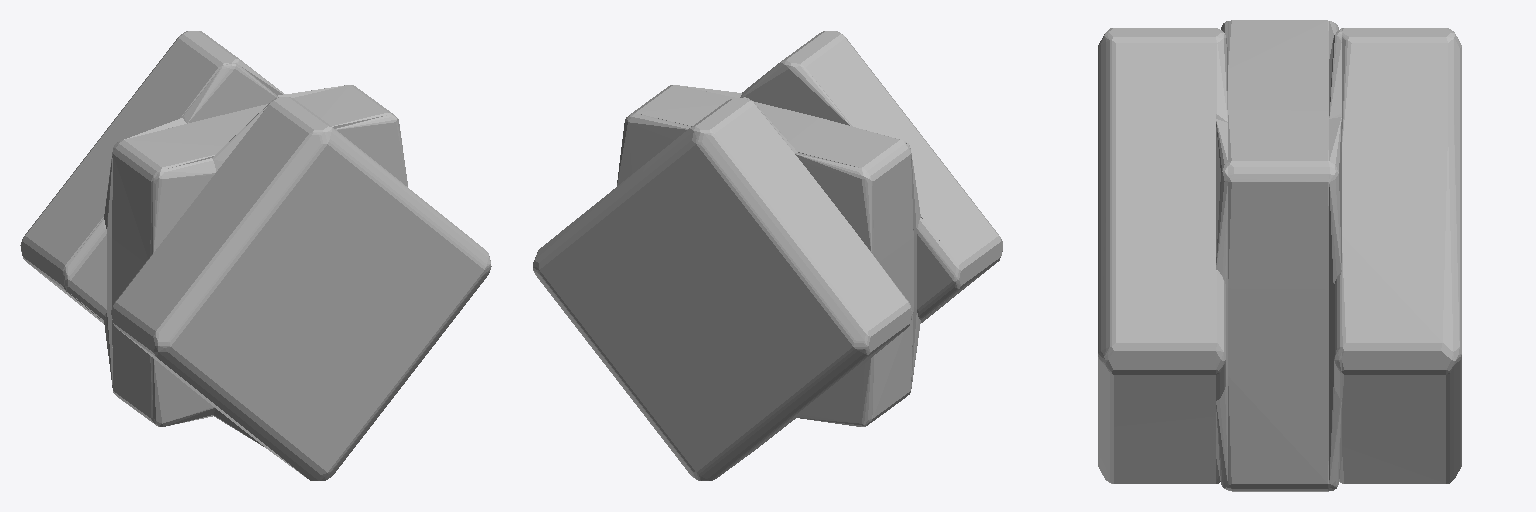
The robot description file, URDF, robot "root":
<robot name="root">
  <link name="link_coacd_convex_piece_0">
    <inertial>
      <origin xyz="0 0 0" rpy="0 0 0"/>
      <mass value="5.03E-01"/>
      <inertia ixx="1.44E-01" ixy="-7.48E-06" ixz="-5.72E-05" iyy="1.18E-01" iyz="-3.11E-05" izz="1.44E-01"/>
    </inertial>
    <visual>
      <origin xyz="0 0 0" rpy="0 0 0"/>
      <geometry>
        <mesh filename="coacd_convex_piece_0.obj" scale="1.0000E+00 1.0000E+00 1.0000E+00"/>
      </geometry>
      <material name="">
        <color rgba="7.50E-01 7.50E-01 7.50E-01 1"/>
      </material>
    </visual>
    <collision>
      <origin xyz="0 0 0" rpy="0 0 0"/>
      <geometry>
        <mesh filename="coacd_convex_piece_0.obj" scale="1.0000E+00 1.0000E+00 1.0000E+00"/>
      </geometry>
    </collision>
  </link>
  <link name="link_coacd_convex_piece_1">
    <inertial>
      <origin xyz="0 0 0" rpy="0 0 0"/>
      <mass value="4.92E-01"/>
      <inertia ixx="1.42E-01" ixy="-5.85E-05" ixz="-3.35E-05" iyy="1.15E-01" iyz="-5.85E-05" izz="1.42E-01"/>
    </inertial>
    <visual>
      <origin xyz="0 0 0" rpy="0 0 0"/>
      <geometry>
        <mesh filename="coacd_convex_piece_1.obj" scale="1.0000E+00 1.0000E+00 1.0000E+00"/>
      </geometry>
      <material name="">
        <color rgba="7.50E-01 7.50E-01 7.50E-01 1"/>
      </material>
    </visual>
    <collision>
      <origin xyz="0 0 0" rpy="0 0 0"/>
      <geometry>
        <mesh filename="coacd_convex_piece_1.obj" scale="1.0000E+00 1.0000E+00 1.0000E+00"/>
      </geometry>
    </collision>
  </link>
  <joint name="link_coacd_convex_piece_1_joint" type="fixed">
    <origin xyz="0 0 0" rpy="0 0 0"/>
    <parent link="link_coacd_convex_piece_0"/>
    <child link="link_coacd_convex_piece_1"/>
  </joint>
  <link name="link_coacd_convex_piece_2">
    <inertial>
      <origin xyz="0 0 0" rpy="0 0 0"/>
      <mass value="4.20E-01"/>
      <inertia ixx="5.30E-02" ixy="2.22E-08" ixz="-1.52E-06" iyy="9.84E-02" iyz="2.83E-08" izz="5.30E-02"/>
    </inertial>
    <visual>
      <origin xyz="0 0 0" rpy="0 0 0"/>
      <geometry>
        <mesh filename="coacd_convex_piece_2.obj" scale="1.0000E+00 1.0000E+00 1.0000E+00"/>
      </geometry>
      <material name="">
        <color rgba="7.50E-01 7.50E-01 7.50E-01 1"/>
      </material>
    </visual>
    <collision>
      <origin xyz="0 0 0" rpy="0 0 0"/>
      <geometry>
        <mesh filename="coacd_convex_piece_2.obj" scale="1.0000E+00 1.0000E+00 1.0000E+00"/>
      </geometry>
    </collision>
  </link>
  <joint name="link_coacd_convex_piece_2_joint" type="fixed">
    <origin xyz="0 0 0" rpy="0 0 0"/>
    <parent link="link_coacd_convex_piece_1"/>
    <child link="link_coacd_convex_piece_2"/>
  </joint>
  <link name="link_coacd_convex_piece_3">
    <inertial>
      <origin xyz="0 0 0" rpy="0 0 0"/>
      <mass value="1.42E-03"/>
      <inertia ixx="6.43E-05" ixy="-1.86E-04" ixz="8.46E-07" iyy="6.70E-04" iyz="2.41E-07" izz="7.11E-04"/>
    </inertial>
    <visual>
      <origin xyz="0 0 0" rpy="0 0 0"/>
      <geometry>
        <mesh filename="coacd_convex_piece_3.obj" scale="1.0000E+00 1.0000E+00 1.0000E+00"/>
      </geometry>
      <material name="">
        <color rgba="7.50E-01 7.50E-01 7.50E-01 1"/>
      </material>
    </visual>
    <collision>
      <origin xyz="0 0 0" rpy="0 0 0"/>
      <geometry>
        <mesh filename="coacd_convex_piece_3.obj" scale="1.0000E+00 1.0000E+00 1.0000E+00"/>
      </geometry>
    </collision>
  </link>
  <joint name="link_coacd_convex_piece_3_joint" type="fixed">
    <origin xyz="0 0 0" rpy="0 0 0"/>
    <parent link="link_coacd_convex_piece_2"/>
    <child link="link_coacd_convex_piece_3"/>
  </joint>
  <link name="link_coacd_convex_piece_4">
    <inertial>
      <origin xyz="0 0 0" rpy="0 0 0"/>
      <mass value="1.04E-03"/>
      <inertia ixx="4.50E-05" ixy="-1.33E-04" ixz="5.72E-07" iyy="4.90E-04" iyz="1.59E-07" izz="5.19E-04"/>
    </inertial>
    <visual>
      <origin xyz="0 0 0" rpy="0 0 0"/>
      <geometry>
        <mesh filename="coacd_convex_piece_4.obj" scale="1.0000E+00 1.0000E+00 1.0000E+00"/>
      </geometry>
      <material name="">
        <color rgba="7.50E-01 7.50E-01 7.50E-01 1"/>
      </material>
    </visual>
    <collision>
      <origin xyz="0 0 0" rpy="0 0 0"/>
      <geometry>
        <mesh filename="coacd_convex_piece_4.obj" scale="1.0000E+00 1.0000E+00 1.0000E+00"/>
      </geometry>
    </collision>
  </link>
  <joint name="link_coacd_convex_piece_4_joint" type="fixed">
    <origin xyz="0 0 0" rpy="0 0 0"/>
    <parent link="link_coacd_convex_piece_3"/>
    <child link="link_coacd_convex_piece_4"/>
  </joint>
  <link name="link_coacd_convex_piece_5">
    <inertial>
      <origin xyz="0 0 0" rpy="0 0 0"/>
      <mass value="1.62E-02"/>
      <inertia ixx="2.34E-03" ixy="-1.18E-03" ixz="1.93E-05" iyy="4.66E-03" iyz="1.06E-05" izz="3.38E-03"/>
    </inertial>
    <visual>
      <origin xyz="0 0 0" rpy="0 0 0"/>
      <geometry>
        <mesh filename="coacd_convex_piece_5.obj" scale="1.0000E+00 1.0000E+00 1.0000E+00"/>
      </geometry>
      <material name="">
        <color rgba="7.50E-01 7.50E-01 7.50E-01 1"/>
      </material>
    </visual>
    <collision>
      <origin xyz="0 0 0" rpy="0 0 0"/>
      <geometry>
        <mesh filename="coacd_convex_piece_5.obj" scale="1.0000E+00 1.0000E+00 1.0000E+00"/>
      </geometry>
    </collision>
  </link>
  <joint name="link_coacd_convex_piece_5_joint" type="fixed">
    <origin xyz="0 0 0" rpy="0 0 0"/>
    <parent link="link_coacd_convex_piece_4"/>
    <child link="link_coacd_convex_piece_5"/>
  </joint>
  <link name="link_coacd_convex_piece_6">
    <inertial>
      <origin xyz="0 0 0" rpy="0 0 0"/>
      <mass value="1.04E-03"/>
      <inertia ixx="4.52E-05" ixy="1.34E-04" ixz="-1.41E-07" iyy="4.92E-04" iyz="3.74E-08" izz="5.21E-04"/>
    </inertial>
    <visual>
      <origin xyz="0 0 0" rpy="0 0 0"/>
      <geometry>
        <mesh filename="coacd_convex_piece_6.obj" scale="1.0000E+00 1.0000E+00 1.0000E+00"/>
      </geometry>
      <material name="">
        <color rgba="7.50E-01 7.50E-01 7.50E-01 1"/>
      </material>
    </visual>
    <collision>
      <origin xyz="0 0 0" rpy="0 0 0"/>
      <geometry>
        <mesh filename="coacd_convex_piece_6.obj" scale="1.0000E+00 1.0000E+00 1.0000E+00"/>
      </geometry>
    </collision>
  </link>
  <joint name="link_coacd_convex_piece_6_joint" type="fixed">
    <origin xyz="0 0 0" rpy="0 0 0"/>
    <parent link="link_coacd_convex_piece_5"/>
    <child link="link_coacd_convex_piece_6"/>
  </joint>
  <link name="link_coacd_convex_piece_7">
    <inertial>
      <origin xyz="0 0 0" rpy="0 0 0"/>
      <mass value="1.43E-03"/>
      <inertia ixx="6.50E-05" ixy="1.87E-04" ixz="-6.75E-07" iyy="6.77E-04" iyz="1.94E-07" izz="7.18E-04"/>
    </inertial>
    <visual>
      <origin xyz="0 0 0" rpy="0 0 0"/>
      <geometry>
        <mesh filename="coacd_convex_piece_7.obj" scale="1.0000E+00 1.0000E+00 1.0000E+00"/>
      </geometry>
      <material name="">
        <color rgba="7.50E-01 7.50E-01 7.50E-01 1"/>
      </material>
    </visual>
    <collision>
      <origin xyz="0 0 0" rpy="0 0 0"/>
      <geometry>
        <mesh filename="coacd_convex_piece_7.obj" scale="1.0000E+00 1.0000E+00 1.0000E+00"/>
      </geometry>
    </collision>
  </link>
  <joint name="link_coacd_convex_piece_7_joint" type="fixed">
    <origin xyz="0 0 0" rpy="0 0 0"/>
    <parent link="link_coacd_convex_piece_6"/>
    <child link="link_coacd_convex_piece_7"/>
  </joint>
  <link name="link_coacd_convex_piece_8">
    <inertial>
      <origin xyz="0 0 0" rpy="0 0 0"/>
      <mass value="1.48E-02"/>
      <inertia ixx="2.09E-03" ixy="1.15E-03" ixz="1.42E-06" iyy="4.27E-03" iyz="-7.94E-07" izz="3.22E-03"/>
    </inertial>
    <visual>
      <origin xyz="0 0 0" rpy="0 0 0"/>
      <geometry>
        <mesh filename="coacd_convex_piece_8.obj" scale="1.0000E+00 1.0000E+00 1.0000E+00"/>
      </geometry>
      <material name="">
        <color rgba="7.50E-01 7.50E-01 7.50E-01 1"/>
      </material>
    </visual>
    <collision>
      <origin xyz="0 0 0" rpy="0 0 0"/>
      <geometry>
        <mesh filename="coacd_convex_piece_8.obj" scale="1.0000E+00 1.0000E+00 1.0000E+00"/>
      </geometry>
    </collision>
  </link>
  <joint name="link_coacd_convex_piece_8_joint" type="fixed">
    <origin xyz="0 0 0" rpy="0 0 0"/>
    <parent link="link_coacd_convex_piece_7"/>
    <child link="link_coacd_convex_piece_8"/>
  </joint>
  <link name="link_coacd_convex_piece_9">
    <inertial>
      <origin xyz="0 0 0" rpy="0 0 0"/>
      <mass value="2.76E-02"/>
      <inertia ixx="5.59E-03" ixy="-1.62E-04" ixz="-7.94E-08" iyy="5.27E-03" iyz="2.26E-06" izz="1.65E-03"/>
    </inertial>
    <visual>
      <origin xyz="0 0 0" rpy="0 0 0"/>
      <geometry>
        <mesh filename="coacd_convex_piece_9.obj" scale="1.0000E+00 1.0000E+00 1.0000E+00"/>
      </geometry>
      <material name="">
        <color rgba="7.50E-01 7.50E-01 7.50E-01 1"/>
      </material>
    </visual>
    <collision>
      <origin xyz="0 0 0" rpy="0 0 0"/>
      <geometry>
        <mesh filename="coacd_convex_piece_9.obj" scale="1.0000E+00 1.0000E+00 1.0000E+00"/>
      </geometry>
    </collision>
  </link>
  <joint name="link_coacd_convex_piece_9_joint" type="fixed">
    <origin xyz="0 0 0" rpy="0 0 0"/>
    <parent link="link_coacd_convex_piece_8"/>
    <child link="link_coacd_convex_piece_9"/>
  </joint>
  <link name="link_coacd_convex_piece_10">
    <inertial>
      <origin xyz="0 0 0" rpy="0 0 0"/>
      <mass value="2.30E-02"/>
      <inertia ixx="4.52E-03" ixy="4.03E-05" ixz="6.11E-06" iyy="4.14E-03" iyz="1.03E-05" izz="1.12E-03"/>
    </inertial>
    <visual>
      <origin xyz="0 0 0" rpy="0 0 0"/>
      <geometry>
        <mesh filename="coacd_convex_piece_10.obj" scale="1.0000E+00 1.0000E+00 1.0000E+00"/>
      </geometry>
      <material name="">
        <color rgba="7.50E-01 7.50E-01 7.50E-01 1"/>
      </material>
    </visual>
    <collision>
      <origin xyz="0 0 0" rpy="0 0 0"/>
      <geometry>
        <mesh filename="coacd_convex_piece_10.obj" scale="1.0000E+00 1.0000E+00 1.0000E+00"/>
      </geometry>
    </collision>
  </link>
  <joint name="link_coacd_convex_piece_10_joint" type="fixed">
    <origin xyz="0 0 0" rpy="0 0 0"/>
    <parent link="link_coacd_convex_piece_9"/>
    <child link="link_coacd_convex_piece_10"/>
  </joint>
  <link name="link_coacd_convex_piece_11">
    <inertial>
      <origin xyz="0 0 0" rpy="0 0 0"/>
      <mass value="1.53E-02"/>
      <inertia ixx="2.18E-03" ixy="1.14E-03" ixz="2.54E-06" iyy="4.48E-03" iyz="-1.28E-06" izz="3.30E-03"/>
    </inertial>
    <visual>
      <origin xyz="0 0 0" rpy="0 0 0"/>
      <geometry>
        <mesh filename="coacd_convex_piece_11.obj" scale="1.0000E+00 1.0000E+00 1.0000E+00"/>
      </geometry>
      <material name="">
        <color rgba="7.50E-01 7.50E-01 7.50E-01 1"/>
      </material>
    </visual>
    <collision>
      <origin xyz="0 0 0" rpy="0 0 0"/>
      <geometry>
        <mesh filename="coacd_convex_piece_11.obj" scale="1.0000E+00 1.0000E+00 1.0000E+00"/>
      </geometry>
    </collision>
  </link>
  <joint name="link_coacd_convex_piece_11_joint" type="fixed">
    <origin xyz="0 0 0" rpy="0 0 0"/>
    <parent link="link_coacd_convex_piece_10"/>
    <child link="link_coacd_convex_piece_11"/>
  </joint>
  <link name="link_coacd_convex_piece_12">
    <inertial>
      <origin xyz="0 0 0" rpy="0 0 0"/>
      <mass value="1.16E-02"/>
      <inertia ixx="1.55E-03" ixy="-9.77E-04" ixz="2.65E-07" iyy="3.57E-03" iyz="5.40E-09" izz="2.84E-03"/>
    </inertial>
    <visual>
      <origin xyz="0 0 0" rpy="0 0 0"/>
      <geometry>
        <mesh filename="coacd_convex_piece_12.obj" scale="1.0000E+00 1.0000E+00 1.0000E+00"/>
      </geometry>
      <material name="">
        <color rgba="7.50E-01 7.50E-01 7.50E-01 1"/>
      </material>
    </visual>
    <collision>
      <origin xyz="0 0 0" rpy="0 0 0"/>
      <geometry>
        <mesh filename="coacd_convex_piece_12.obj" scale="1.0000E+00 1.0000E+00 1.0000E+00"/>
      </geometry>
    </collision>
  </link>
  <joint name="link_coacd_convex_piece_12_joint" type="fixed">
    <origin xyz="0 0 0" rpy="0 0 0"/>
    <parent link="link_coacd_convex_piece_11"/>
    <child link="link_coacd_convex_piece_12"/>
  </joint>
</robot>

--- Render facts (derived) ---
Views: 3 orthographic renders of the robot side by side, from view 1: azimuth 30°, elevation 25°; view 2: azimuth 150°, elevation 25°; view 3: azimuth 270°, elevation 25°.
Model root with 13 links and 12 joints (12 fixed), rooted at link_coacd_convex_piece_0, posed all joints at 0.
Links seen in each view (by area): view 1: link_coacd_convex_piece_1, link_coacd_convex_piece_2, link_coacd_convex_piece_0, link_coacd_convex_piece_12, link_coacd_convex_piece_10, link_coacd_convex_piece_6, link_coacd_convex_piece_8, link_coacd_convex_piece_11, link_coacd_convex_piece_9; view 2: link_coacd_convex_piece_0, link_coacd_convex_piece_2, link_coacd_convex_piece_1, link_coacd_convex_piece_11, link_coacd_convex_piece_9, link_coacd_convex_piece_3, link_coacd_convex_piece_5, link_coacd_convex_piece_12; view 3: link_coacd_convex_piece_0, link_coacd_convex_piece_1, link_coacd_convex_piece_2, link_coacd_convex_piece_5, link_coacd_convex_piece_8, link_coacd_convex_piece_7, link_coacd_convex_piece_9, link_coacd_convex_piece_10, link_coacd_convex_piece_4.
Link boxes in pixels (bbox=[...]): link_coacd_convex_piece_1: bbox=[113, 97, 491, 480]; link_coacd_convex_piece_2: bbox=[112, 85, 398, 425]; link_coacd_convex_piece_0: bbox=[20, 31, 284, 323]; link_coacd_convex_piece_12: bbox=[150, 158, 215, 426]; link_coacd_convex_piece_10: bbox=[182, 63, 277, 123]; link_coacd_convex_piece_6: bbox=[64, 219, 106, 319]; link_coacd_convex_piece_8: bbox=[334, 115, 407, 186]; link_coacd_convex_piece_11: bbox=[104, 118, 186, 392]; link_coacd_convex_piece_9: bbox=[212, 97, 290, 446]; link_coacd_convex_piece_0: bbox=[533, 98, 911, 480]; link_coacd_convex_piece_2: bbox=[631, 85, 913, 426]; link_coacd_convex_piece_1: bbox=[742, 31, 1002, 322]; link_coacd_convex_piece_11: bbox=[795, 153, 874, 426]; link_coacd_convex_piece_9: bbox=[740, 60, 852, 126]; link_coacd_convex_piece_3: bbox=[917, 218, 960, 319]; link_coacd_convex_piece_5: bbox=[617, 113, 690, 185]; link_coacd_convex_piece_12: bbox=[899, 139, 920, 392]; link_coacd_convex_piece_0: bbox=[1342, 28, 1461, 483]; link_coacd_convex_piece_1: bbox=[1098, 28, 1215, 483]; link_coacd_convex_piece_2: bbox=[1228, 20, 1328, 491]; link_coacd_convex_piece_5: bbox=[1329, 117, 1341, 490]; link_coacd_convex_piece_8: bbox=[1216, 119, 1227, 489]; link_coacd_convex_piece_7: bbox=[1216, 270, 1225, 400]; link_coacd_convex_piece_9: bbox=[1216, 28, 1227, 483]; link_coacd_convex_piece_10: bbox=[1329, 28, 1341, 482]; link_coacd_convex_piece_4: bbox=[1334, 272, 1341, 399].
Size in the robot's own frame: 1.6 by 1.18 by 1.6 metres.
Meshes: 13 distinct files referenced, 13 mesh visuals loaded (13 OBJ).